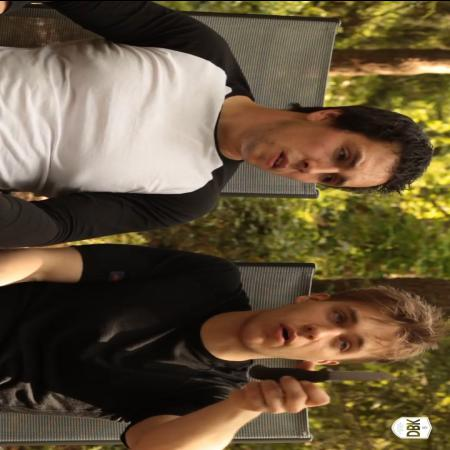long weapon: (270, 363, 408, 408)
